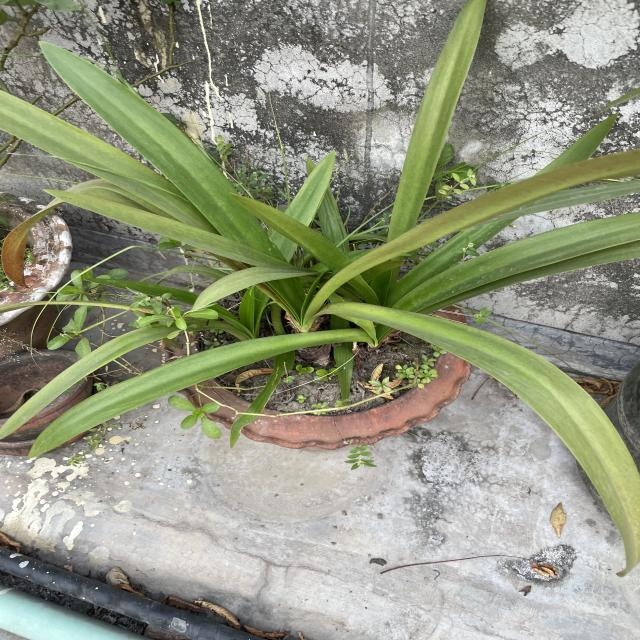Breeding Place: (177, 277, 475, 455), (2, 347, 97, 457)
